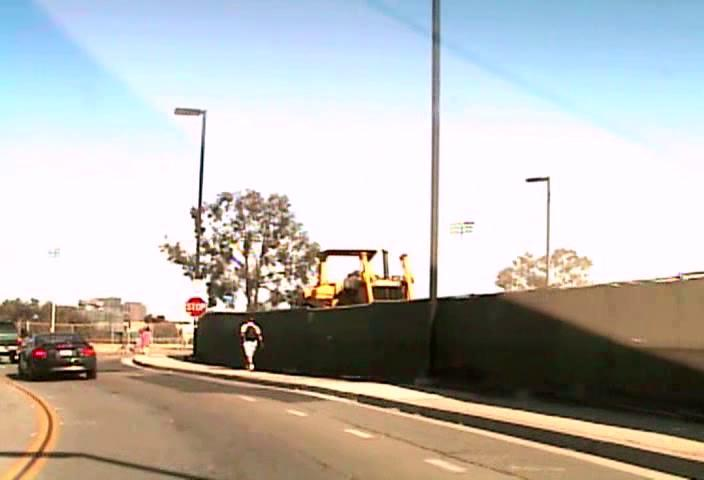stop: (185, 296, 206, 317)
